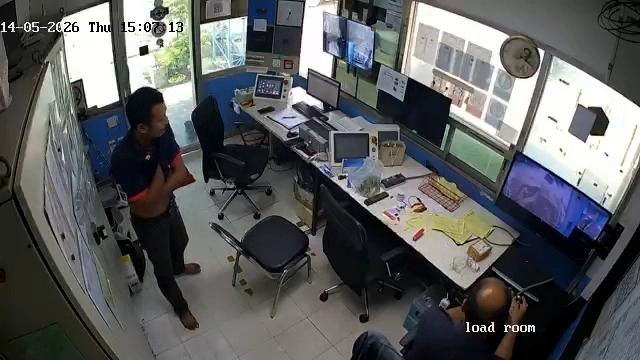Head: (127, 86, 170, 137), (462, 278, 510, 323)
People: (111, 86, 204, 335), (352, 276, 526, 360)
Phone: (257, 106, 276, 115)
